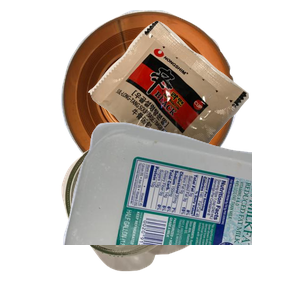glass: (59, 135, 254, 300)
metal: (58, 10, 289, 186)
plastic: (60, 120, 300, 300)
trash: (86, 18, 300, 194)
